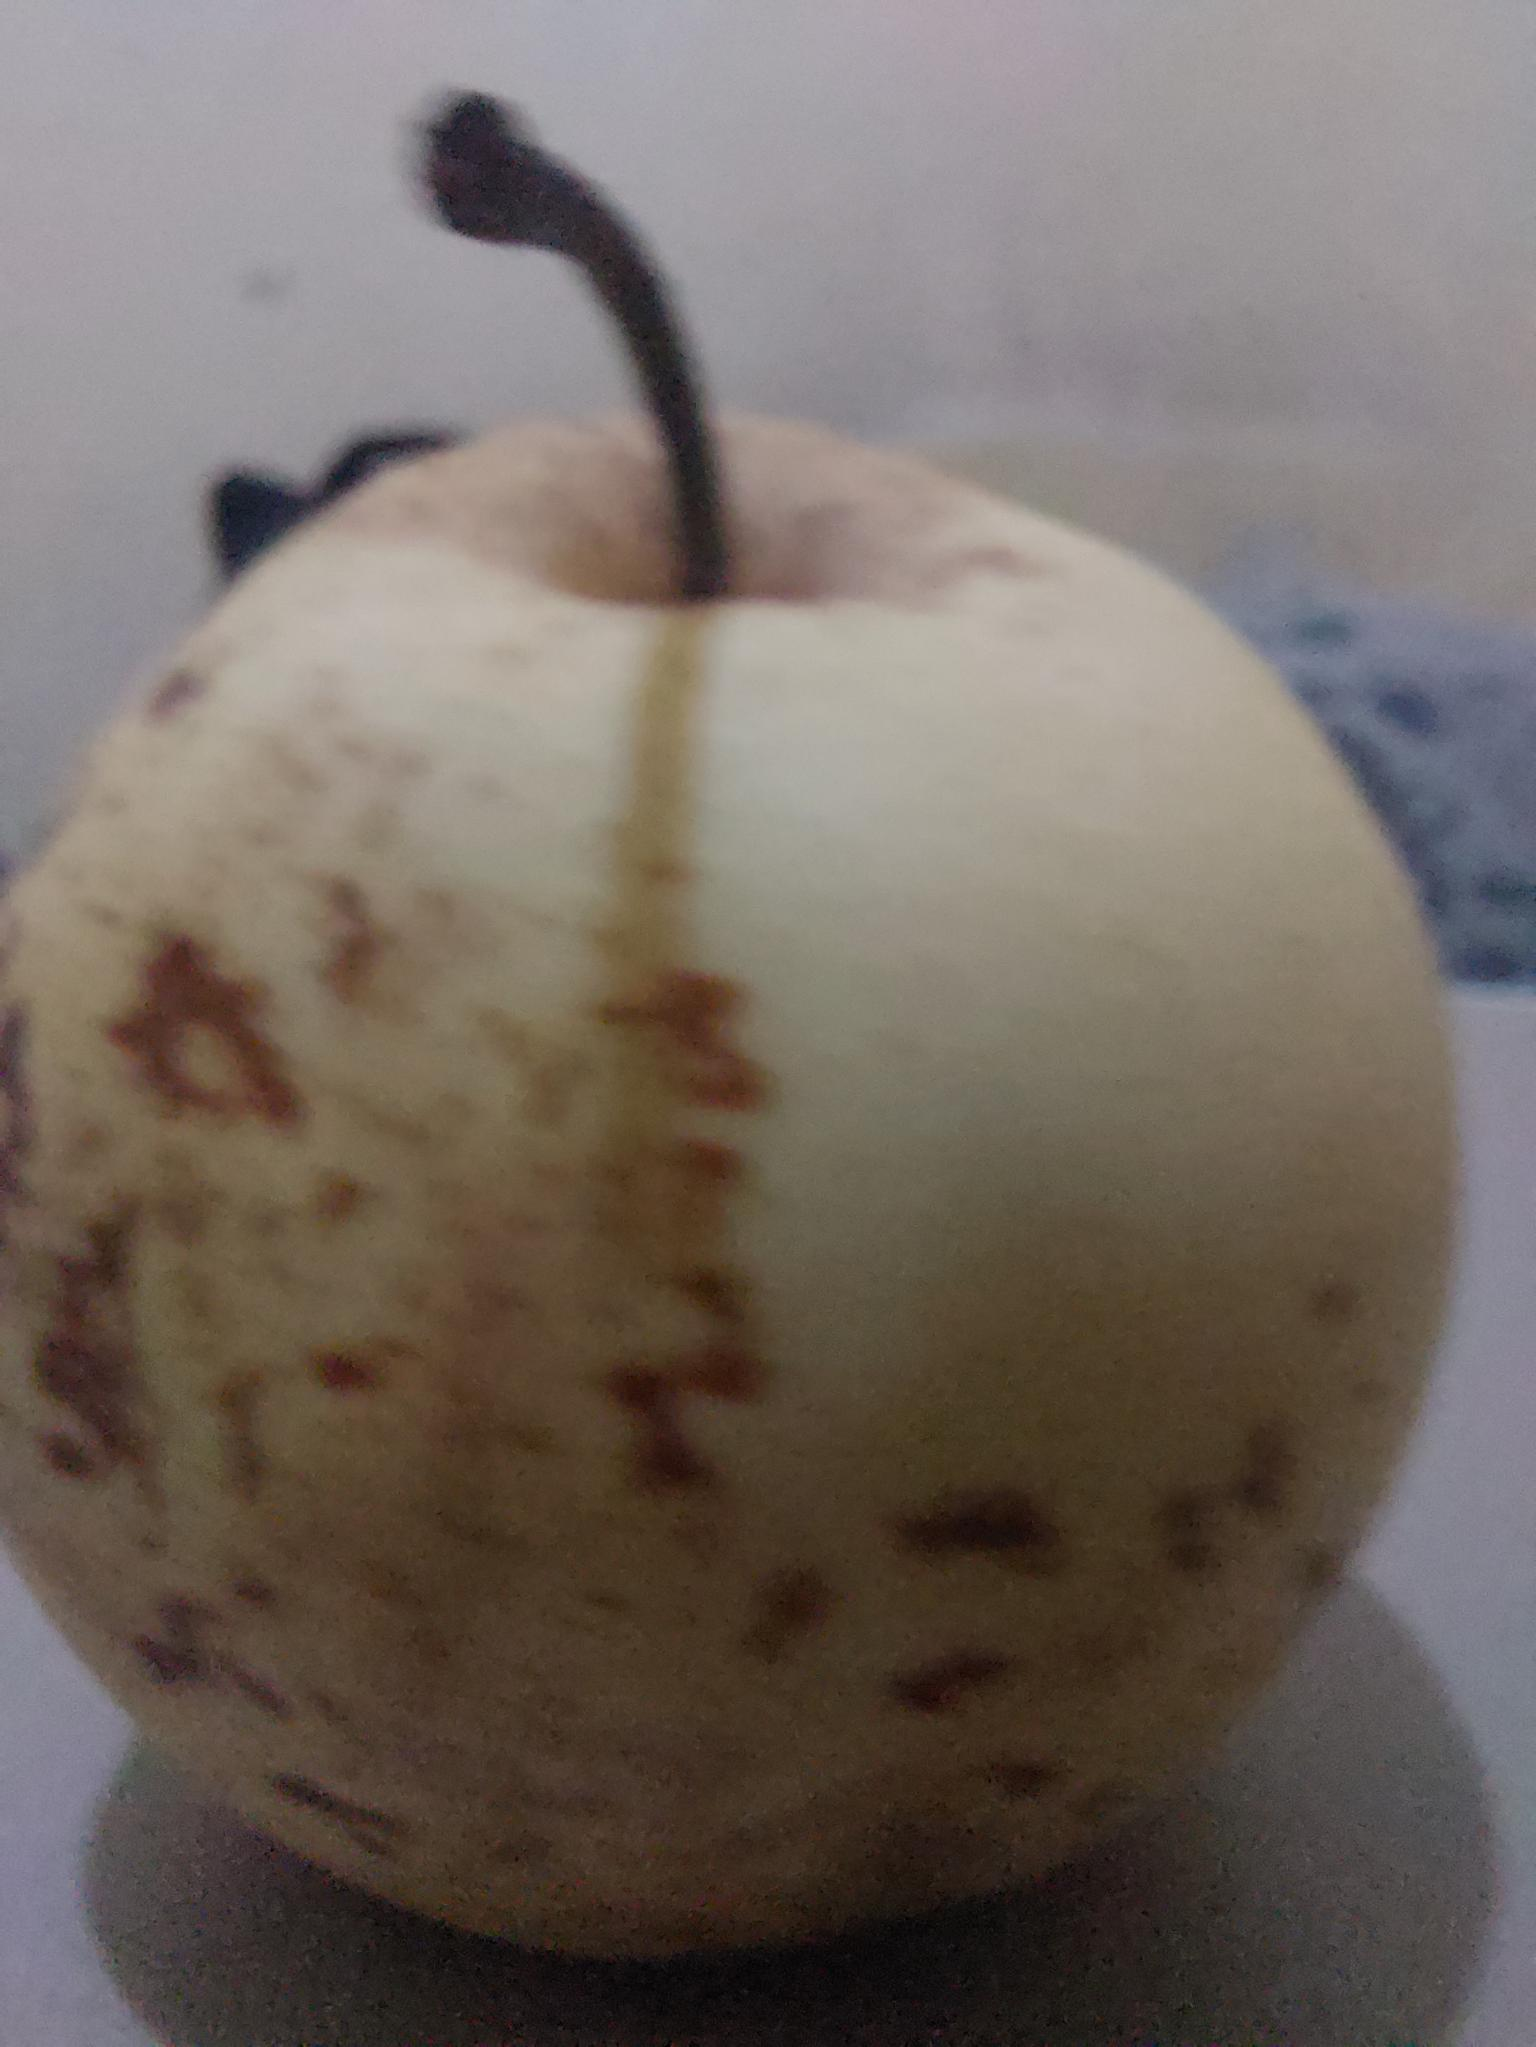Bad Pear: (0, 387, 1460, 2005)
